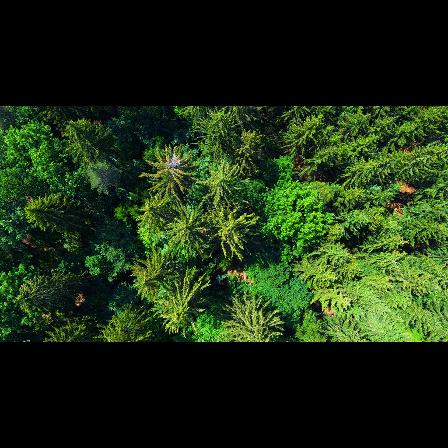Sick: (150, 145, 192, 188)
